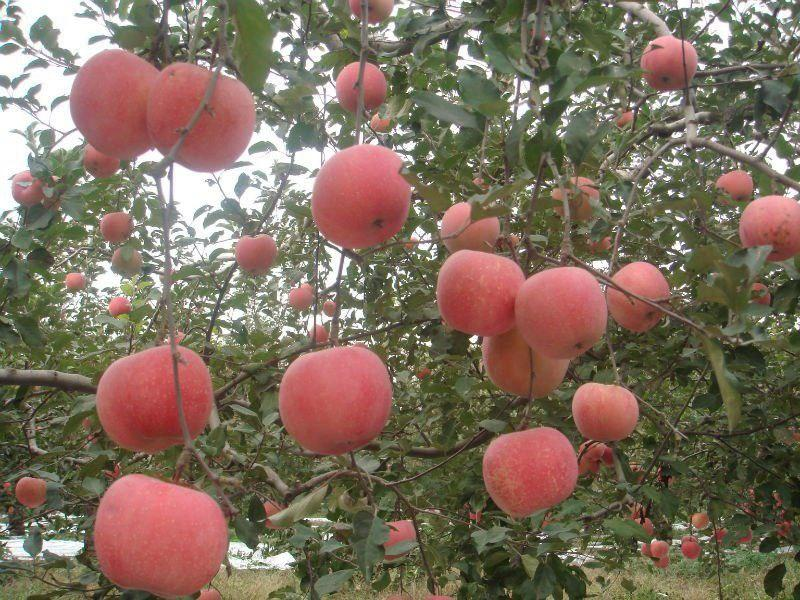Apple: (94, 474, 228, 598), (96, 346, 215, 454), (280, 344, 392, 455), (148, 59, 256, 174), (311, 144, 410, 248), (478, 427, 580, 518), (516, 264, 606, 360)
